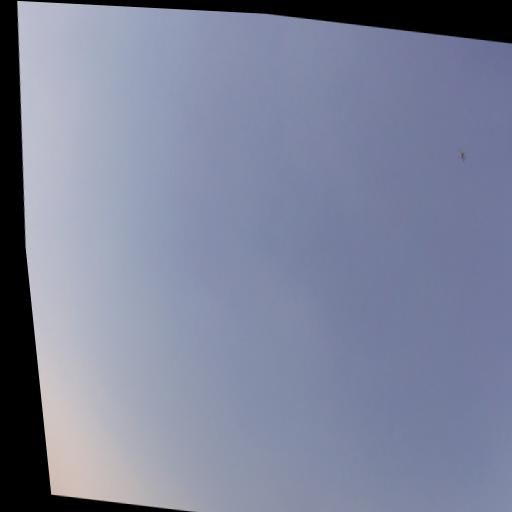drones: (456, 145, 469, 165)
